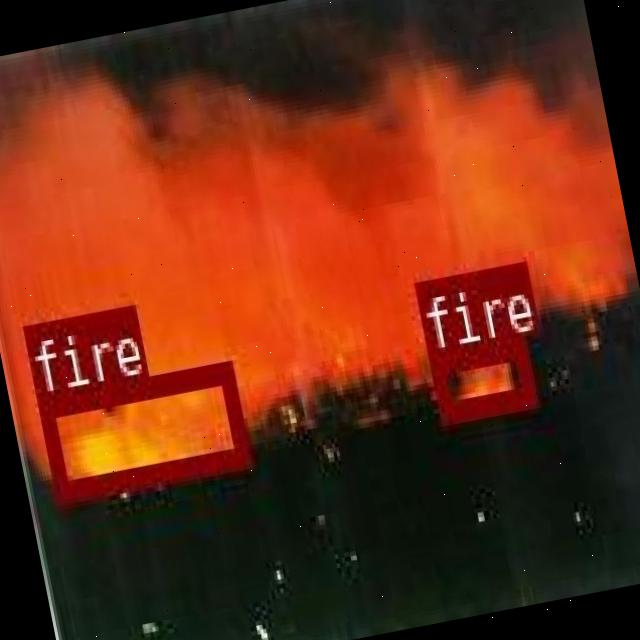fire: (36, 360, 249, 501), (427, 333, 534, 419)
